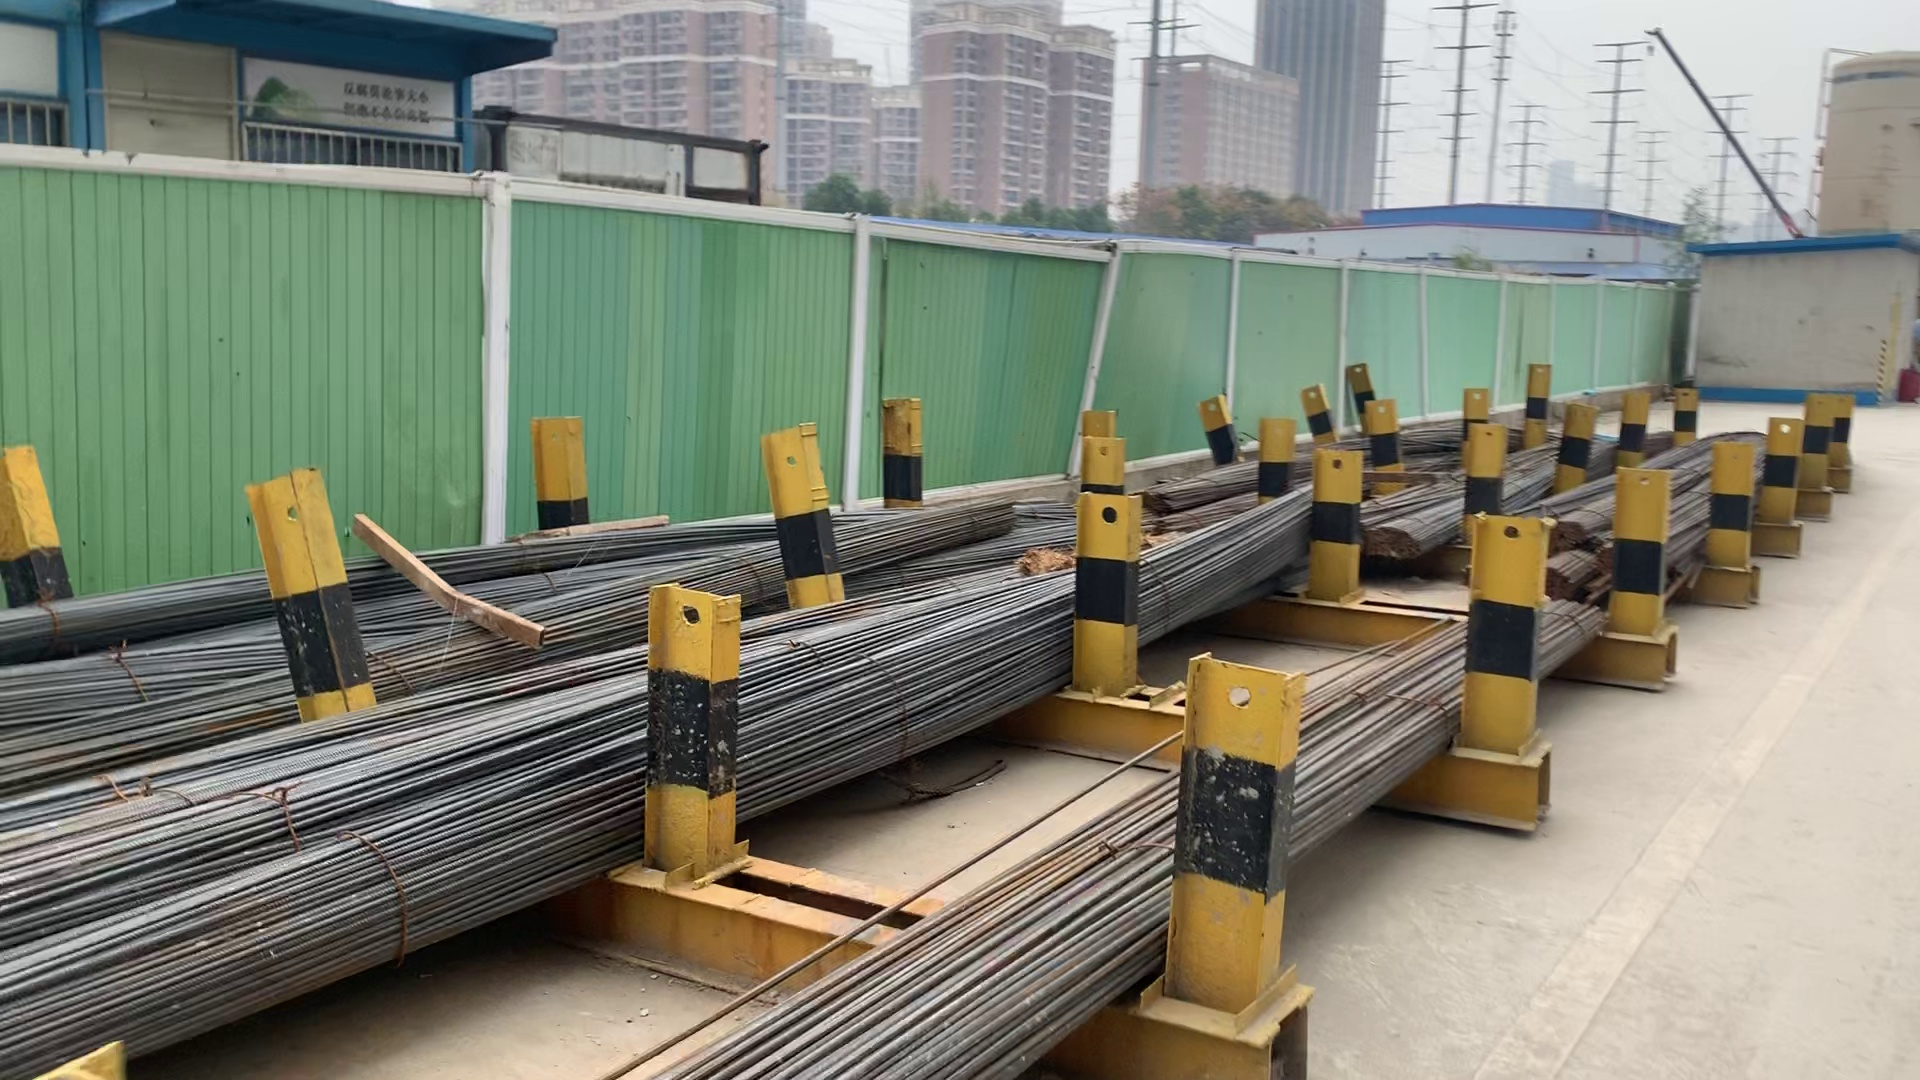rebar: (1356, 516, 1420, 560), (1545, 520, 1592, 549), (1547, 560, 1582, 593)
